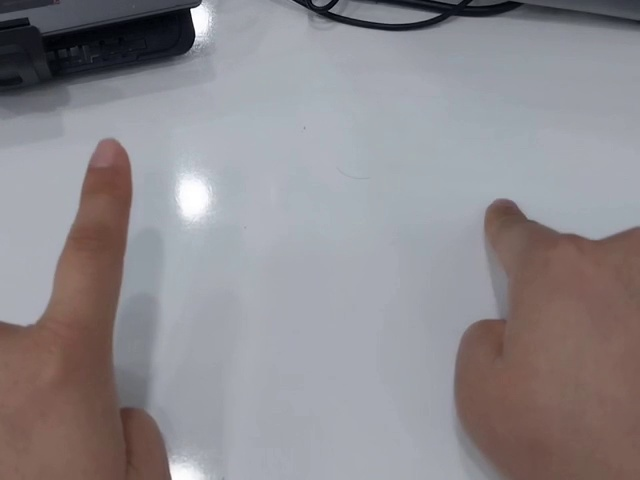fingers: (81, 137, 134, 199), (482, 196, 526, 240)
